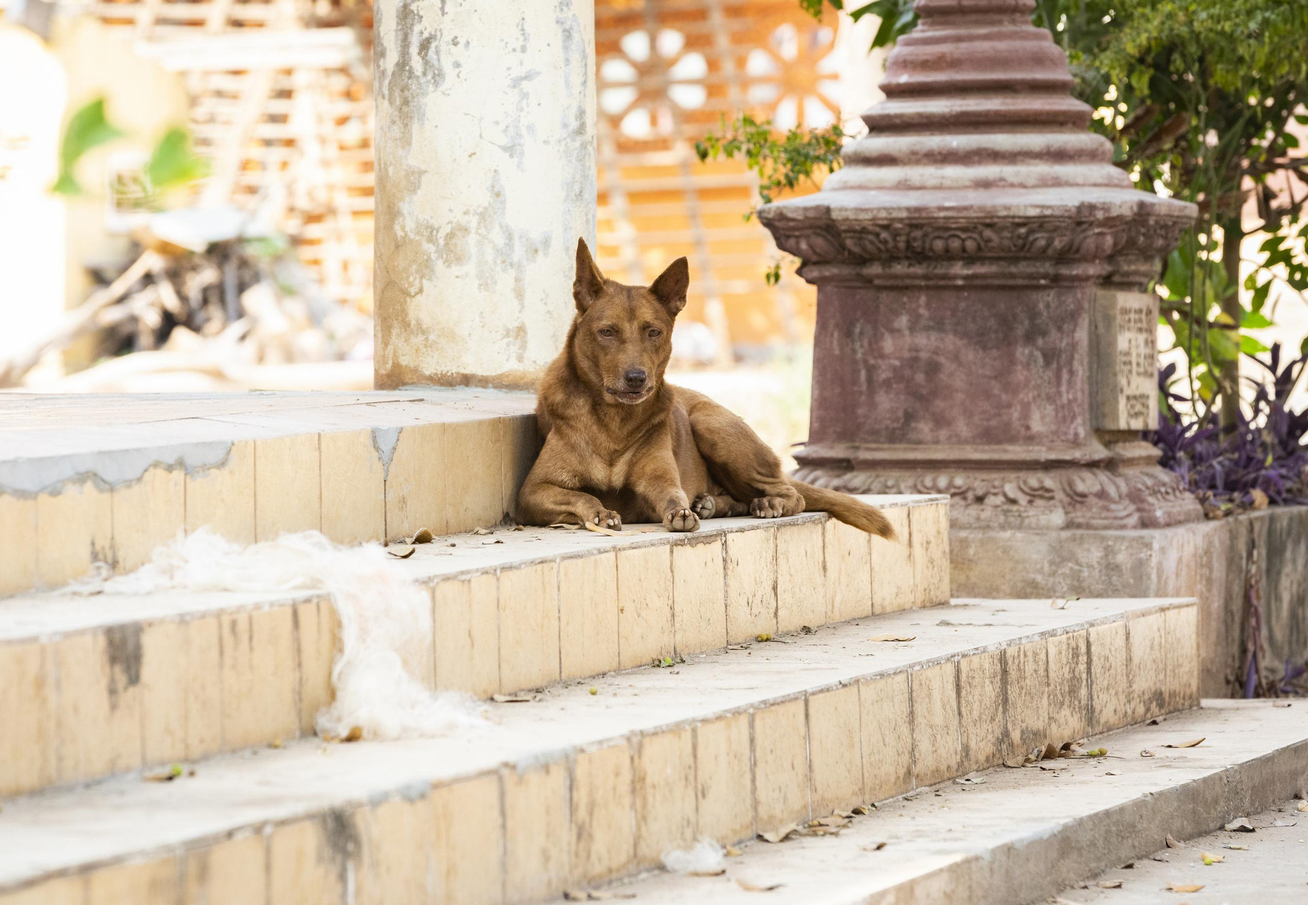Dog: (490, 231, 926, 555)
